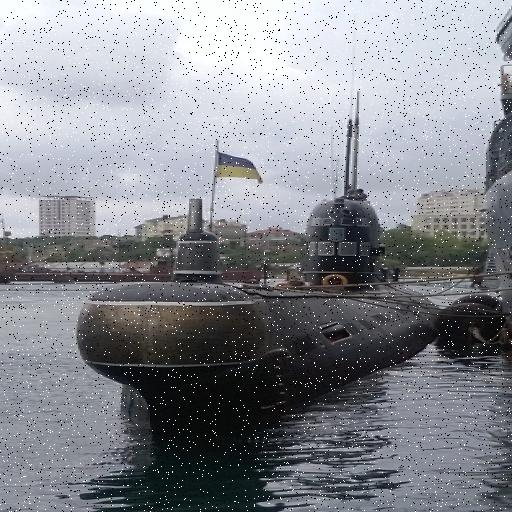submarine: (78, 92, 445, 460)
